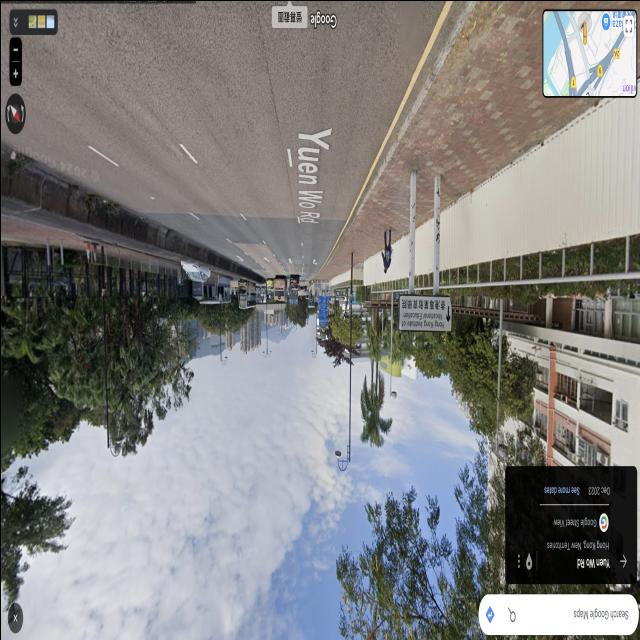Direction-Sign: (399, 294, 450, 330), (318, 294, 326, 326)
